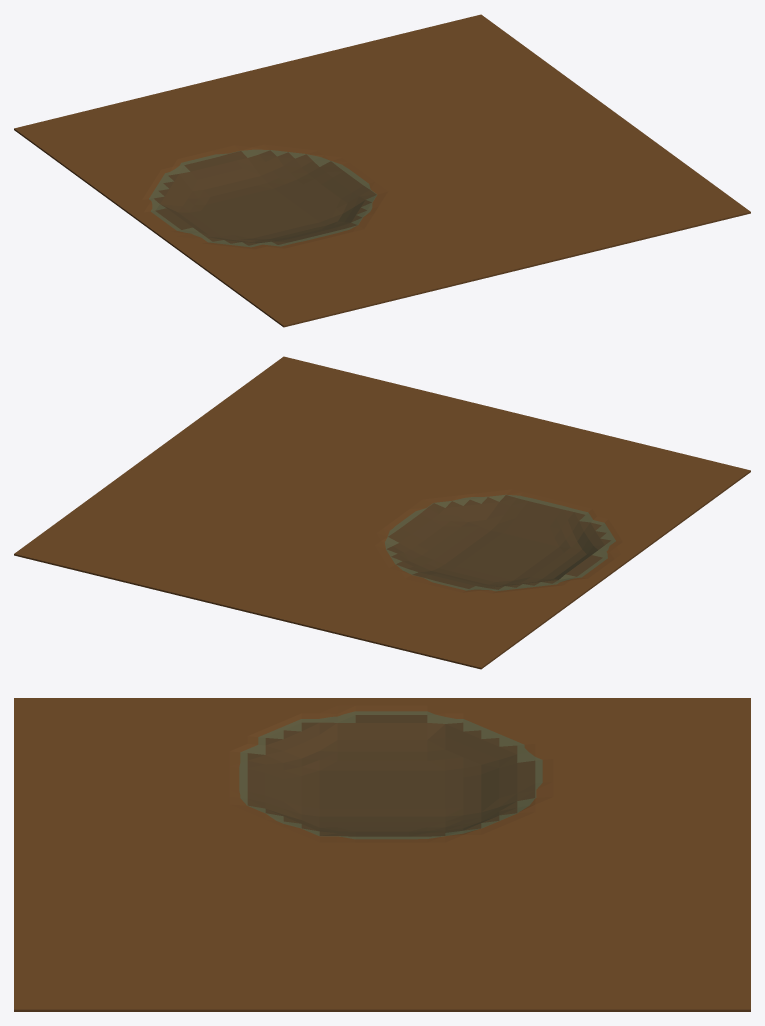
File: pond.gltf
3 renders of one model, top to bottom at view 1: azimuth 30°, elevation 25°; view 2: azimuth 150°, elevation 25°; view 3: azimuth 270°, elevation 25°, orthographic. The views are drawn at different scales.
Parts seen in each view (by area): view 1: ground, water_surface; view 2: ground, water_surface; view 3: ground, water_surface.
Boxes of the visible parts, left/top/right/bottom form: ground: left=14, top=14, right=750, bottom=327; water_surface: left=150, top=150, right=376, bottom=246; ground: left=14, top=356, right=750, bottom=669; water_surface: left=385, top=495, right=614, bottom=590; ground: left=14, top=698, right=750, bottom=1011; water_surface: left=240, top=712, right=541, bottom=838.
Bounding box in the file's own units: 30 × 0.9866 × 30.
3 materials, 3 textured.
